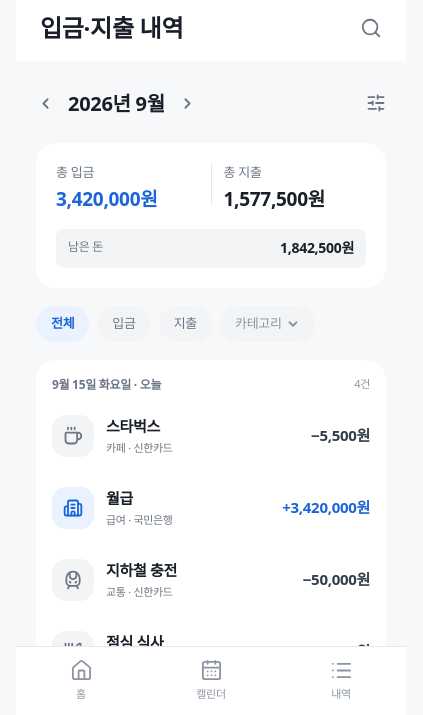
Test: HistoryPage › 이전 달로 이동하면 URL 이 바뀌고 남은 돈이 음수로 보인다
The image size is (423, 715).
Click the button named "이전 달" at (45, 103), box [23,81,67,125]
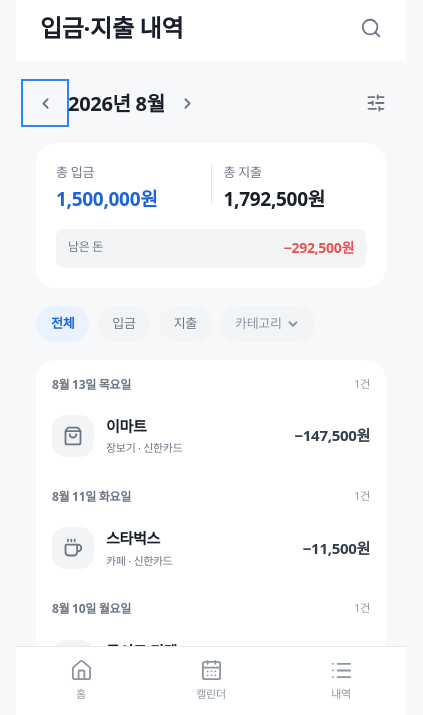
Expected: the text "2026년 8월" is shown, [68,88,165,118]
Expected: the text "−292,500원" is shown, [284,238,354,259]
